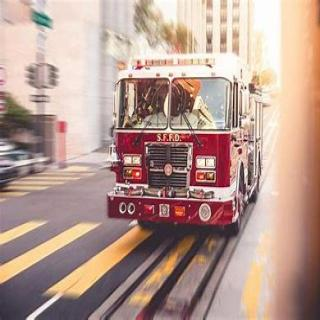Fire_truck: (106, 51, 266, 233)
